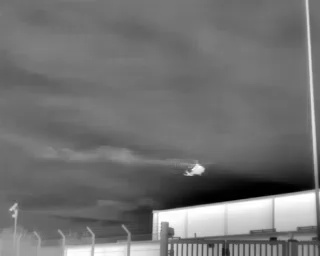HELICOPTER: (177, 156, 217, 182)
